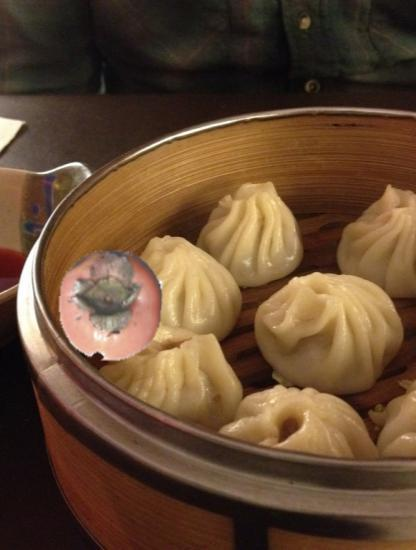Kaki: (54, 249, 169, 364)
